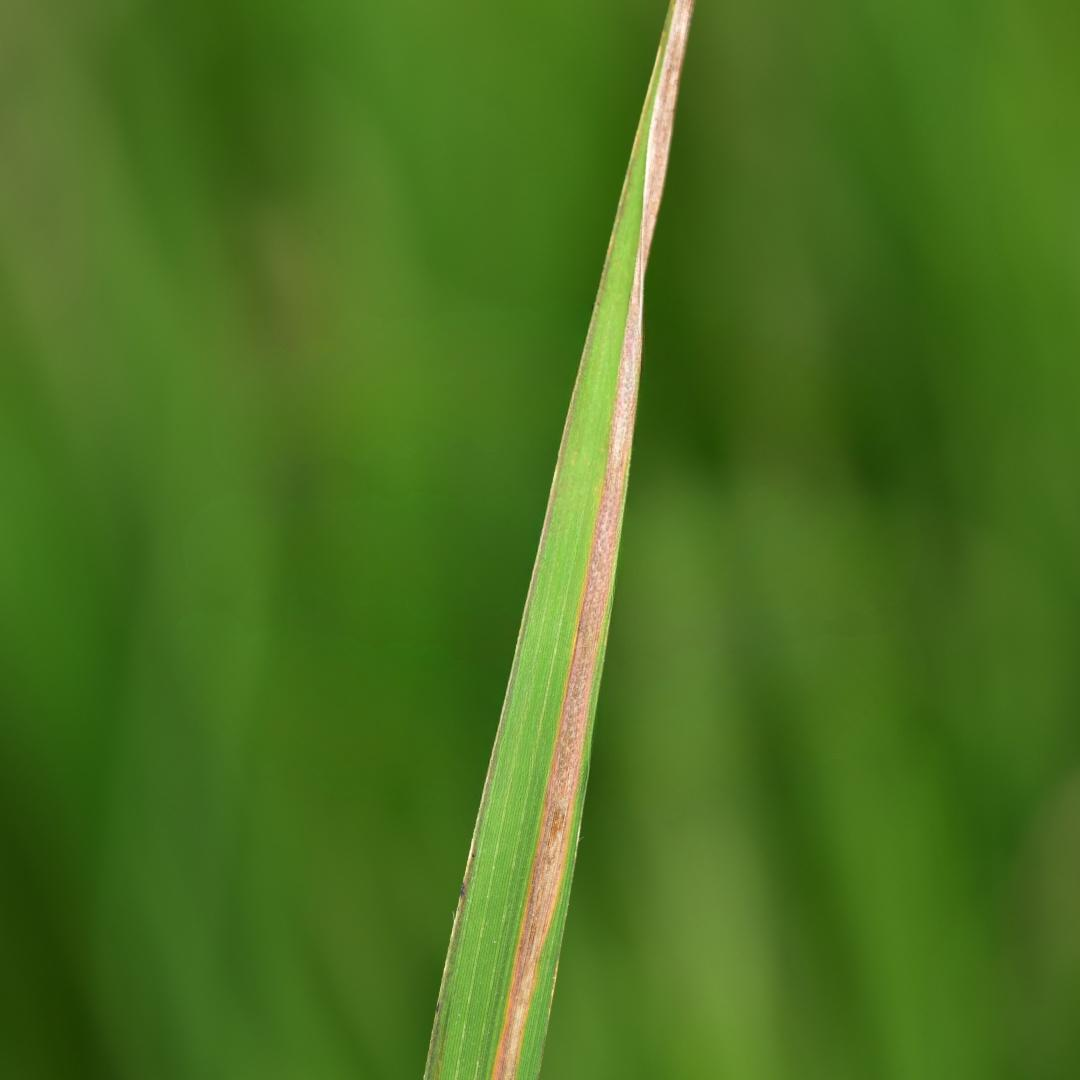BLB: (494, 0, 695, 1079)
